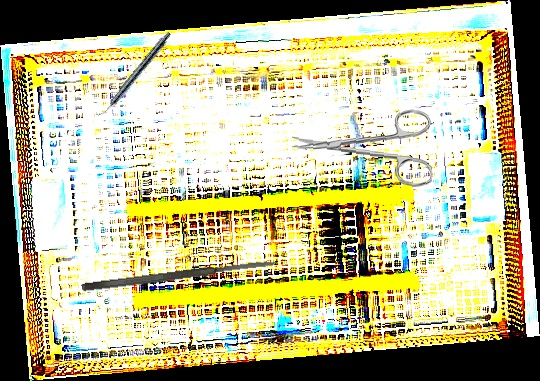Handpiece: (96, 29, 173, 121)
Iris Scissors: (289, 101, 437, 188)
Spatula Surgical: (81, 258, 277, 293)
